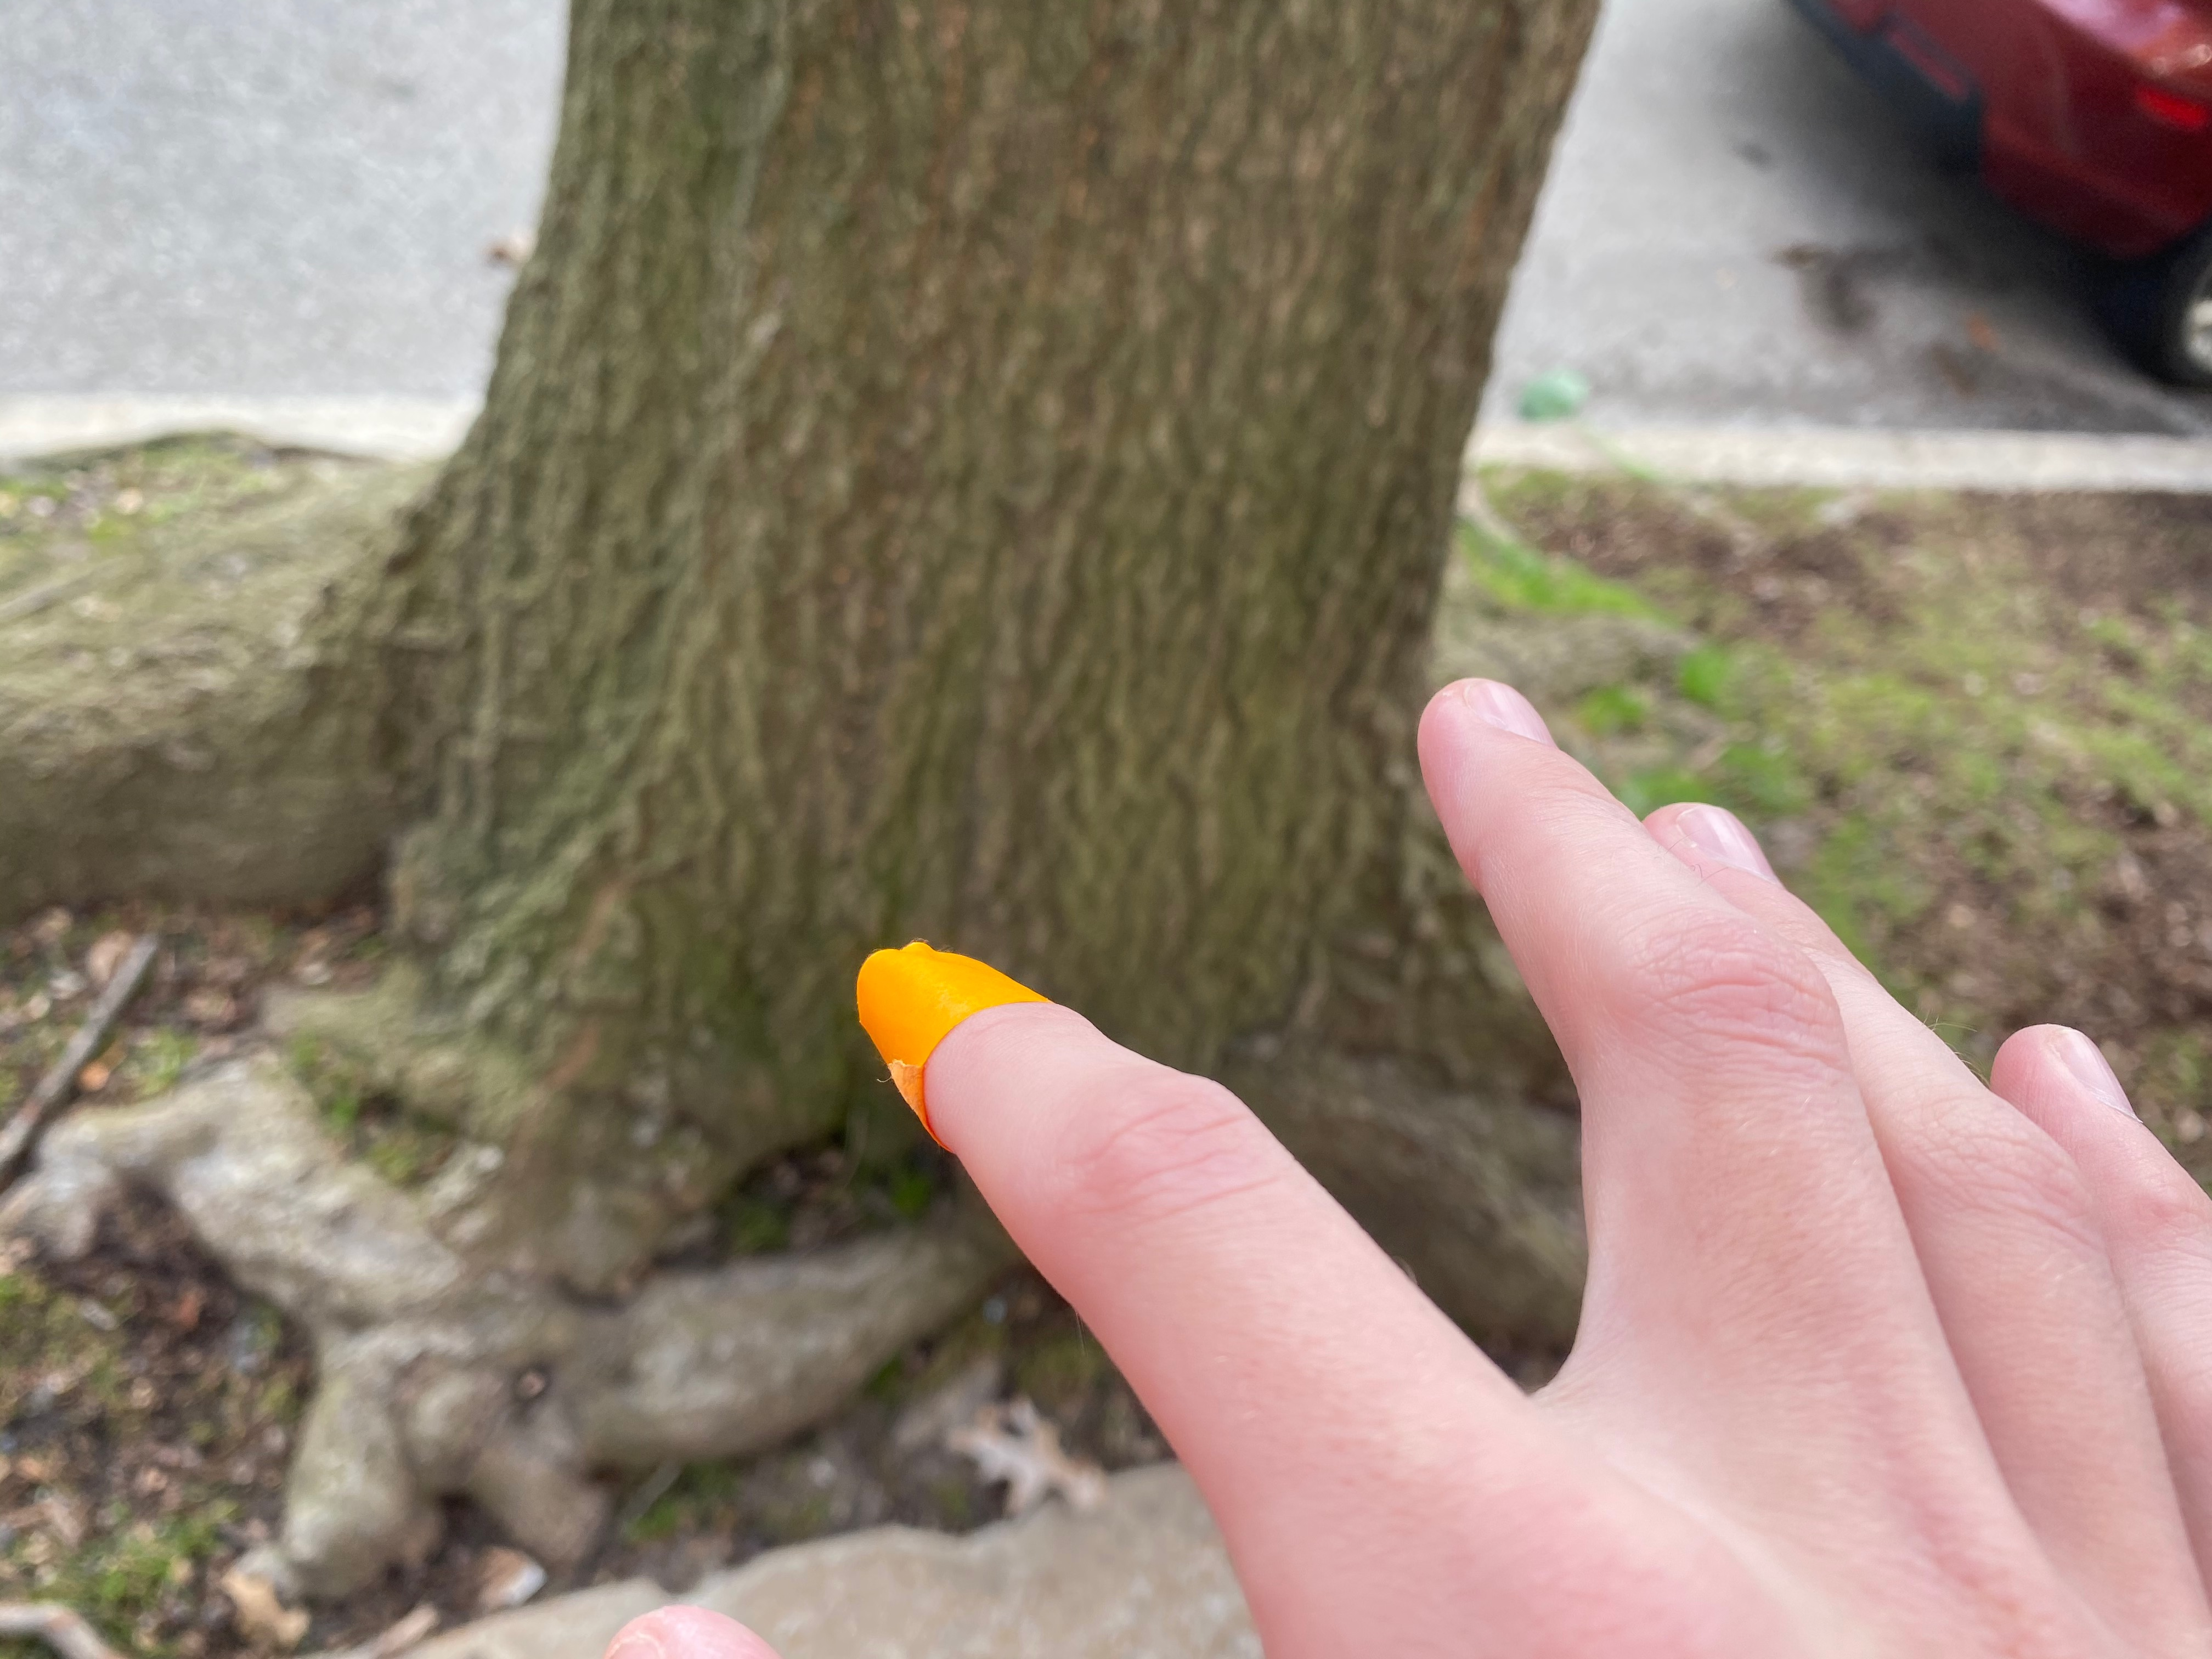fingertip: (803, 906, 1158, 1154)
